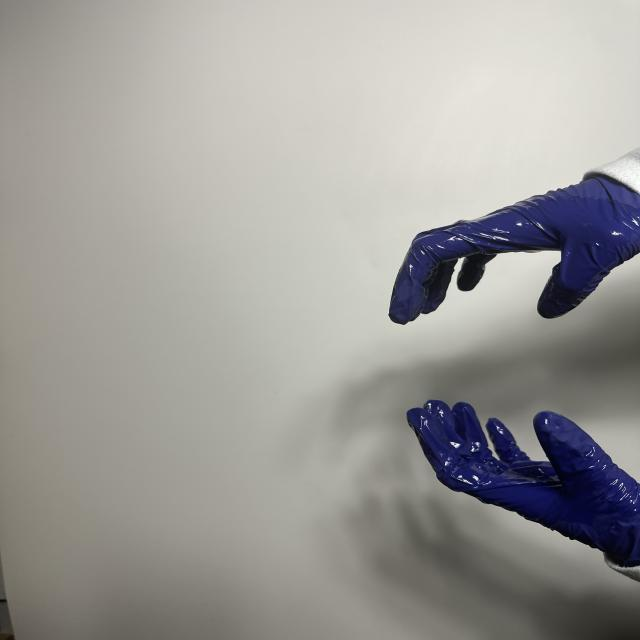gloves_contaminated: (389, 149, 640, 325), (407, 401, 640, 580)
